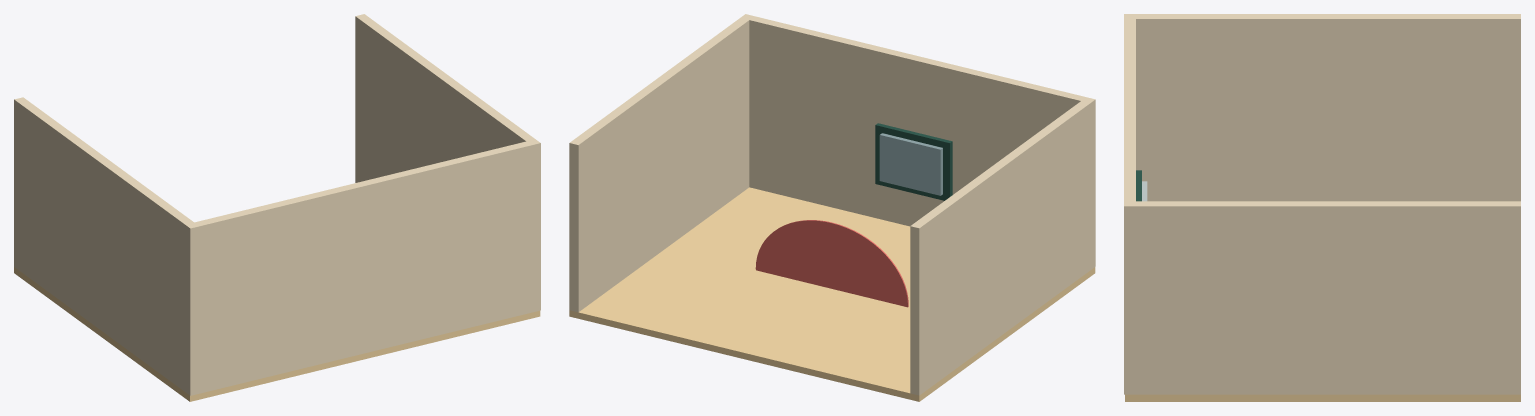
The model's file is room-shell.glb.
The picture shows the model from 3 angles, left to right: view 1: azimuth 30°, elevation 25°; view 2: azimuth 150°, elevation 25°; view 3: azimuth 270°, elevation 25°; orthographic projection. The views are drawn at different scales.
Parts seen in each view (by area): view 1: ROOM_BACK_WALL, ROOM_LEFT_WALL, ROOM_RIGHT_WALL, ROOM_FLOOR_REFLECTIVE; view 2: ROOM_BACK_WALL, ROOM_FLOOR_REFLECTIVE, ROOM_LEFT_WALL, ROOM_RIGHT_WALL, ROOM_RUG, ROOM_WINDOW_FRAME, ROOM_WINDOW_GLASS; view 3: ROOM_RIGHT_WALL, ROOM_LEFT_WALL, ROOM_BACK_WALL, ROOM_FLOOR_REFLECTIVE.
Part boxes in pixels (box(x1,y1,x2,y2)): ROOM_BACK_WALL: box(185, 139, 540, 395); ROOM_LEFT_WALL: box(14, 97, 198, 392); ROOM_RIGHT_WALL: box(355, 14, 539, 182); ROOM_FLOOR_REFLECTIVE: box(14, 267, 540, 401); ROOM_BACK_WALL: box(741, 14, 1095, 266); ROOM_FLOOR_REFLECTIVE: box(569, 187, 1095, 401); ROOM_LEFT_WALL: box(910, 100, 1095, 395); ROOM_RIGHT_WALL: box(569, 14, 753, 312); ROOM_RUG: box(755, 220, 908, 307); ROOM_WINDOW_FRAME: box(875, 123, 952, 200); ROOM_WINDOW_GLASS: box(879, 133, 942, 195); ROOM_RIGHT_WALL: box(1125, 201, 1520, 394); ROOM_LEFT_WALL: box(1125, 14, 1520, 201); ROOM_BACK_WALL: box(1124, 14, 1135, 394); ROOM_FLOOR_REFLECTIVE: box(1125, 394, 1520, 401).
Bounding box in the file's own units: 4.6 × 2.87 × 4.01.
